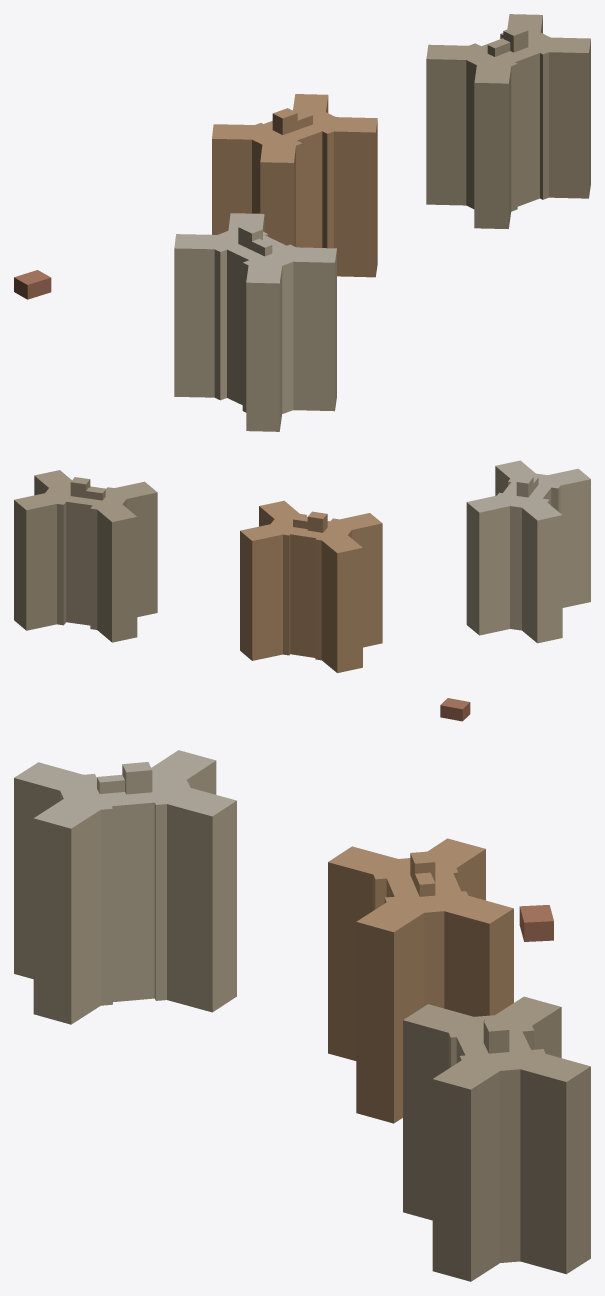
Rendered from tile--1_12.glb.
The picture shows the model from 3 angles, top to bottom: view 1: azimuth 30°, elevation 25°; view 2: azimuth 150°, elevation 25°; view 3: azimuth 270°, elevation 25°; orthographic projection. The views are drawn at different scales.
Visible parts, largest first — view 1: wall, roof; view 2: wall, roof; view 3: wall, roof.
Boxes of the visible parts, <box> form: wall: <box>14,17,590,431</box>; roof: <box>14,14,590,284</box>; wall: <box>14,466,590,721</box>; roof: <box>14,460,590,709</box>; wall: <box>14,761,590,1281</box>; roof: <box>14,750,590,1089</box>.
Size of the model in its own units: 178 by 51.58 by 123.
